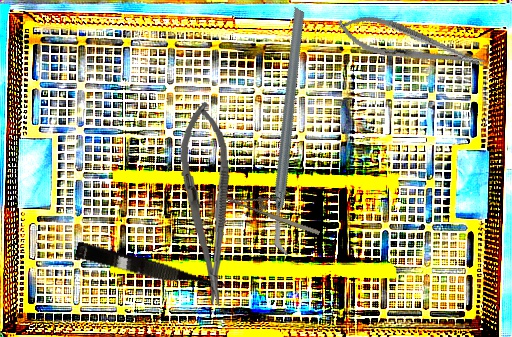Chopper: (185, 6, 398, 257)
Micro Scissor: (73, 241, 233, 299)
Needle Holder: (176, 100, 239, 308), (332, 6, 490, 83), (222, 178, 327, 238)
